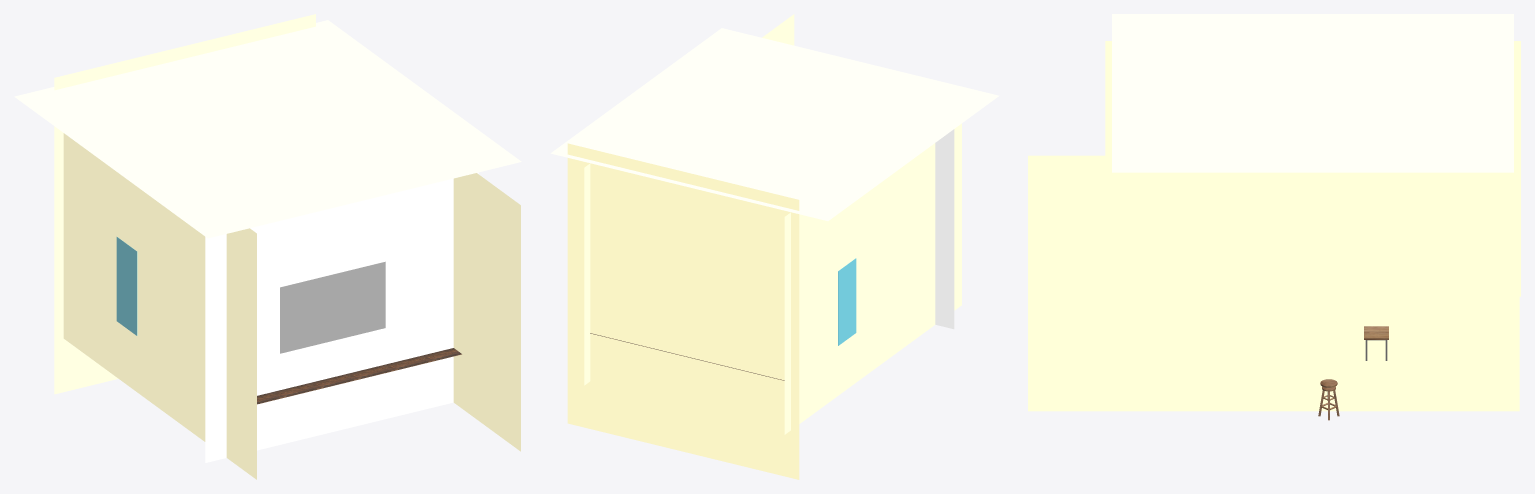
Rendered from room.glb.
The picture shows the model from 3 angles, left to right: view 1: azimuth 30°, elevation 25°; view 2: azimuth 150°, elevation 25°; view 3: azimuth 270°, elevation 25°; orthographic projection. The views are drawn at different scales.
Parts seen in each view (by area): view 1: Plane.010, Plane.002, Plane.003, Plane.004, Plane.001, Cube.040, Cube.006, Plane; view 2: Plane.001, Plane.010, Plane.003, Plane.002, Plane.004, Cube.006; view 3: Plane.004, Plane.010, Plane.003.
Part boxes in pixels (x1=…): Plane.010: x1=14, y1=20, x2=521, y2=238; Plane.002: x1=205, y1=172, x2=478, y2=462; Plane.003: x1=63, y1=133, x2=256, y2=479; Plane.004: x1=453, y1=173, x2=520, y2=451; Plane.001: x1=54, y1=14, x2=315, y2=394; Cube.040: x1=280, y1=261, x2=385, y2=353; Cube.006: x1=116, y1=237, x2=137, y2=335; Plane: x1=257, y1=348, x2=461, y2=404; Plane.001: x1=567, y1=143, x2=799, y2=479; Plane.010: x1=550, y1=28, x2=999, y2=220; Plane.003: x1=784, y1=123, x2=961, y2=434; Plane.002: x1=935, y1=129, x2=954, y2=329; Plane.004: x1=584, y1=14, x2=794, y2=385; Cube.006: x1=838, y1=258, x2=856, y2=345; Plane.004: x1=1028, y1=155, x2=1519, y2=411; Plane.010: x1=1112, y1=14, x2=1513, y2=172; Plane.003: x1=1105, y1=41, x2=1520, y2=296.
Bounding box in the file's own units: 58.34 × 48.61 × 66.16.
Materials: 16 (4 with a texture image).
